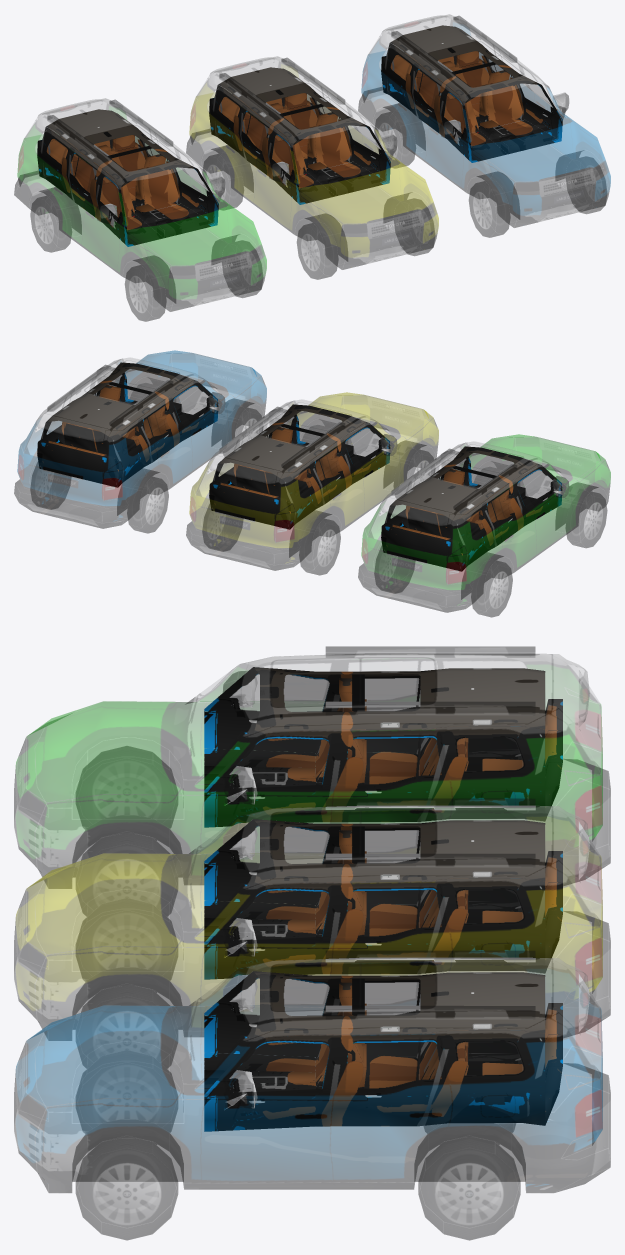
File: 900_tris_land_cruiser_low_poly.glb
3 views of the same model, one above another, from view 1: azimuth 30°, elevation 25°; view 2: azimuth 150°, elevation 25°; view 3: azimuth 270°, elevation 25° (orthographic). The views are drawn at different scales.
Parts seen in each view (by area): view 1: Plane.005_2, Plane.002_1, Plane_0; view 2: Plane.005_2, Plane_0, Plane.002_1; view 3: Plane_0, Plane.002_1, Plane.005_2.
Boxes of the visible parts, left/top/right/bottom form: Plane.005_2: left=14, top=98, right=266, bottom=321; Plane.002_1: left=186, top=56, right=438, bottom=279; Plane_0: left=358, top=14, right=610, bottom=237; Plane.005_2: left=358, top=434, right=610, bottom=617; Plane_0: left=14, top=350, right=266, bottom=533; Plane.002_1: left=186, top=392, right=438, bottom=575; Plane_0: left=14, top=950, right=610, bottom=1240; Plane.002_1: left=14, top=798, right=610, bottom=1068; Plane.005_2: left=14, top=646, right=610, bottom=916.
Size of the model in its own units: 8.19 by 1.94 by 4.98.
Materials: 4 (4 with a texture image).
